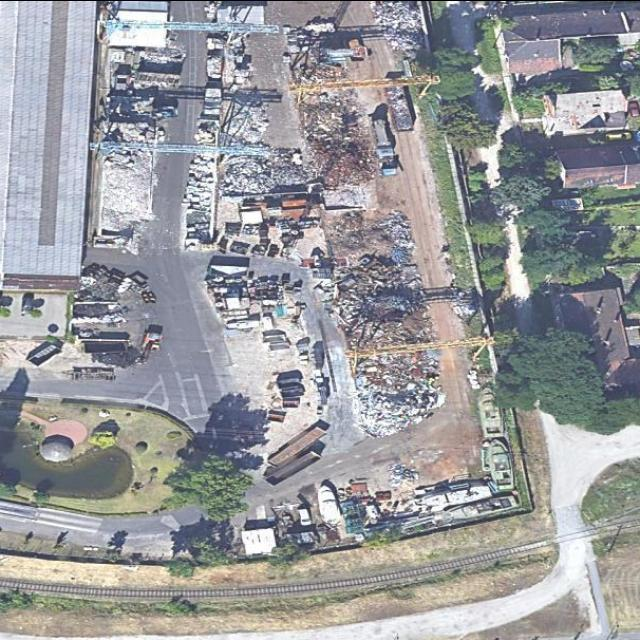dump_site: (346, 348, 454, 441), (332, 262, 439, 350), (296, 97, 380, 193), (218, 153, 310, 194), (369, 0, 427, 55), (221, 90, 275, 148), (180, 151, 217, 217), (327, 209, 377, 253), (373, 208, 420, 252), (221, 38, 256, 88), (386, 84, 415, 132), (383, 459, 422, 490), (194, 119, 218, 144), (205, 55, 223, 82), (389, 248, 412, 264)
